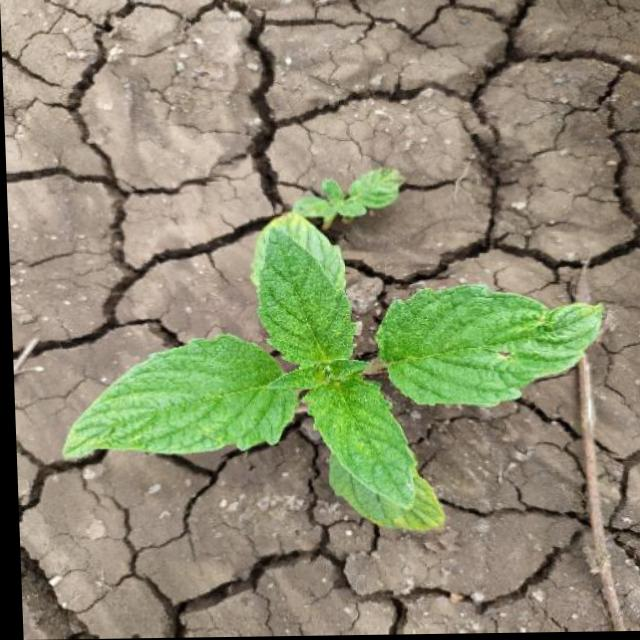crop: (50, 205, 608, 532)
